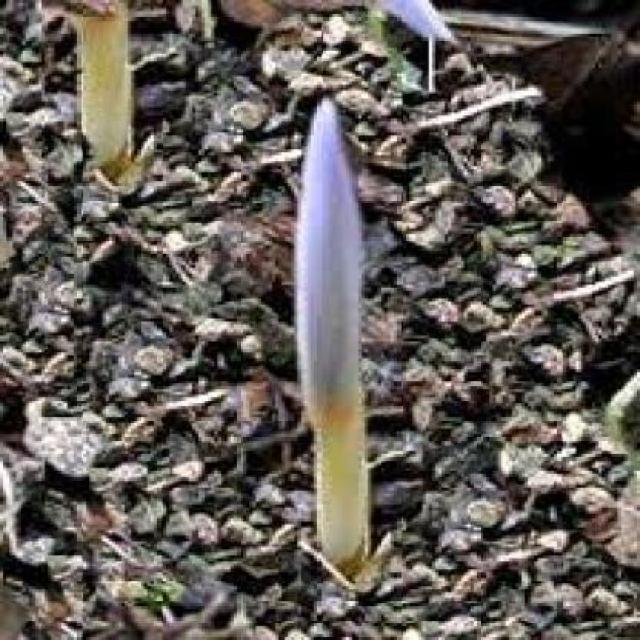Flower: (292, 88, 373, 452)
